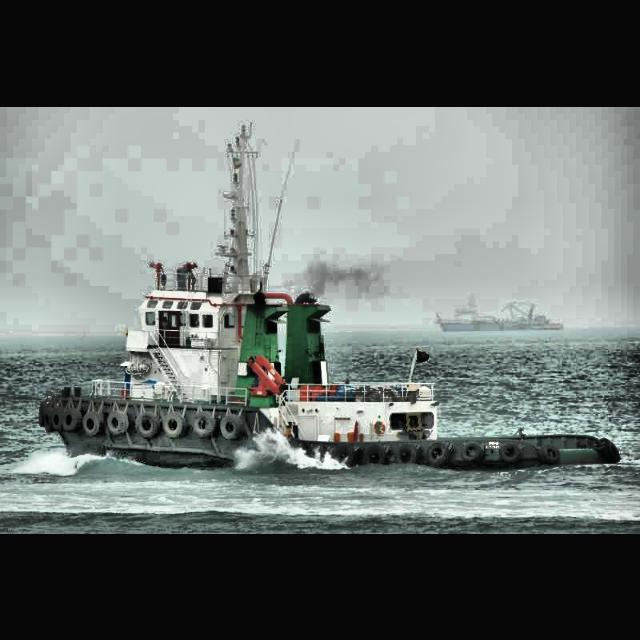container: (437, 300, 565, 334)
tug: (39, 258, 624, 472)
